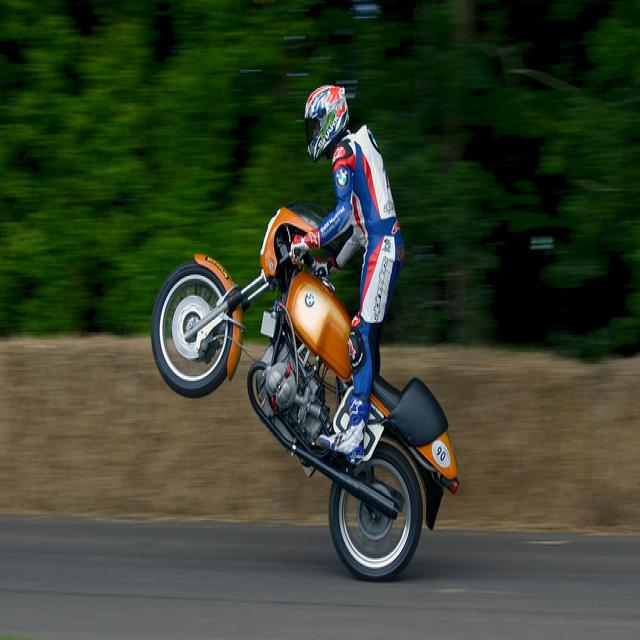motor: (151, 201, 460, 582)
